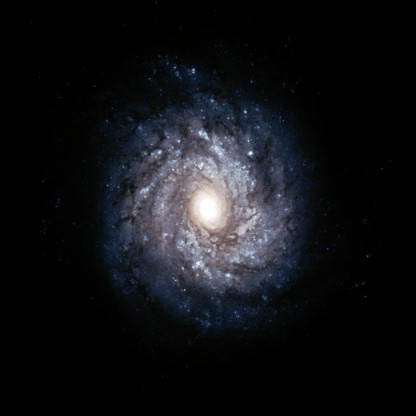NGC 3982: (103, 81, 301, 326)
